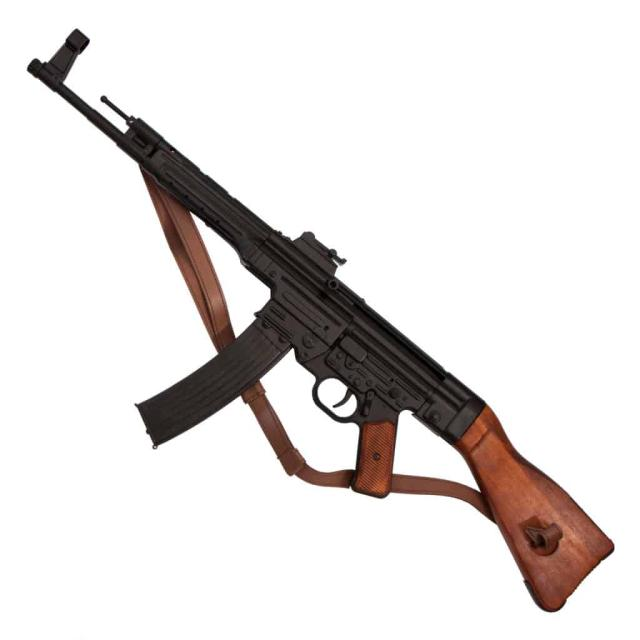Rifle: (29, 30, 617, 615)
